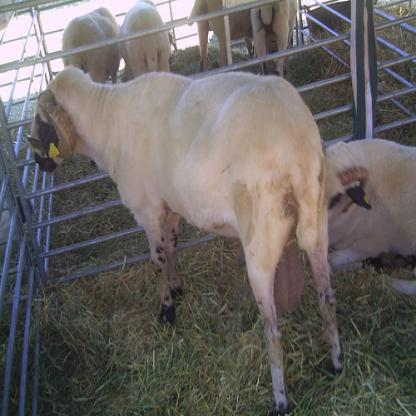sheep: (24, 64, 345, 415), (324, 138, 415, 295), (185, 0, 253, 75), (60, 5, 121, 84), (117, 0, 176, 77), (249, 0, 298, 77)
